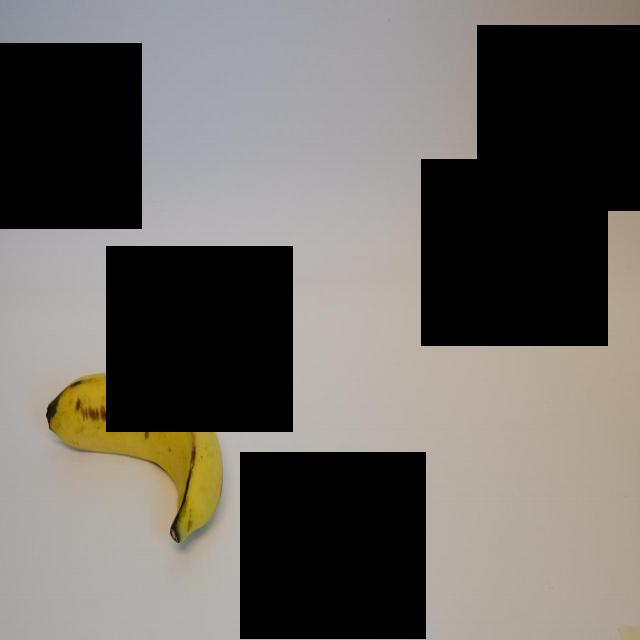banana: (36, 363, 226, 553)
